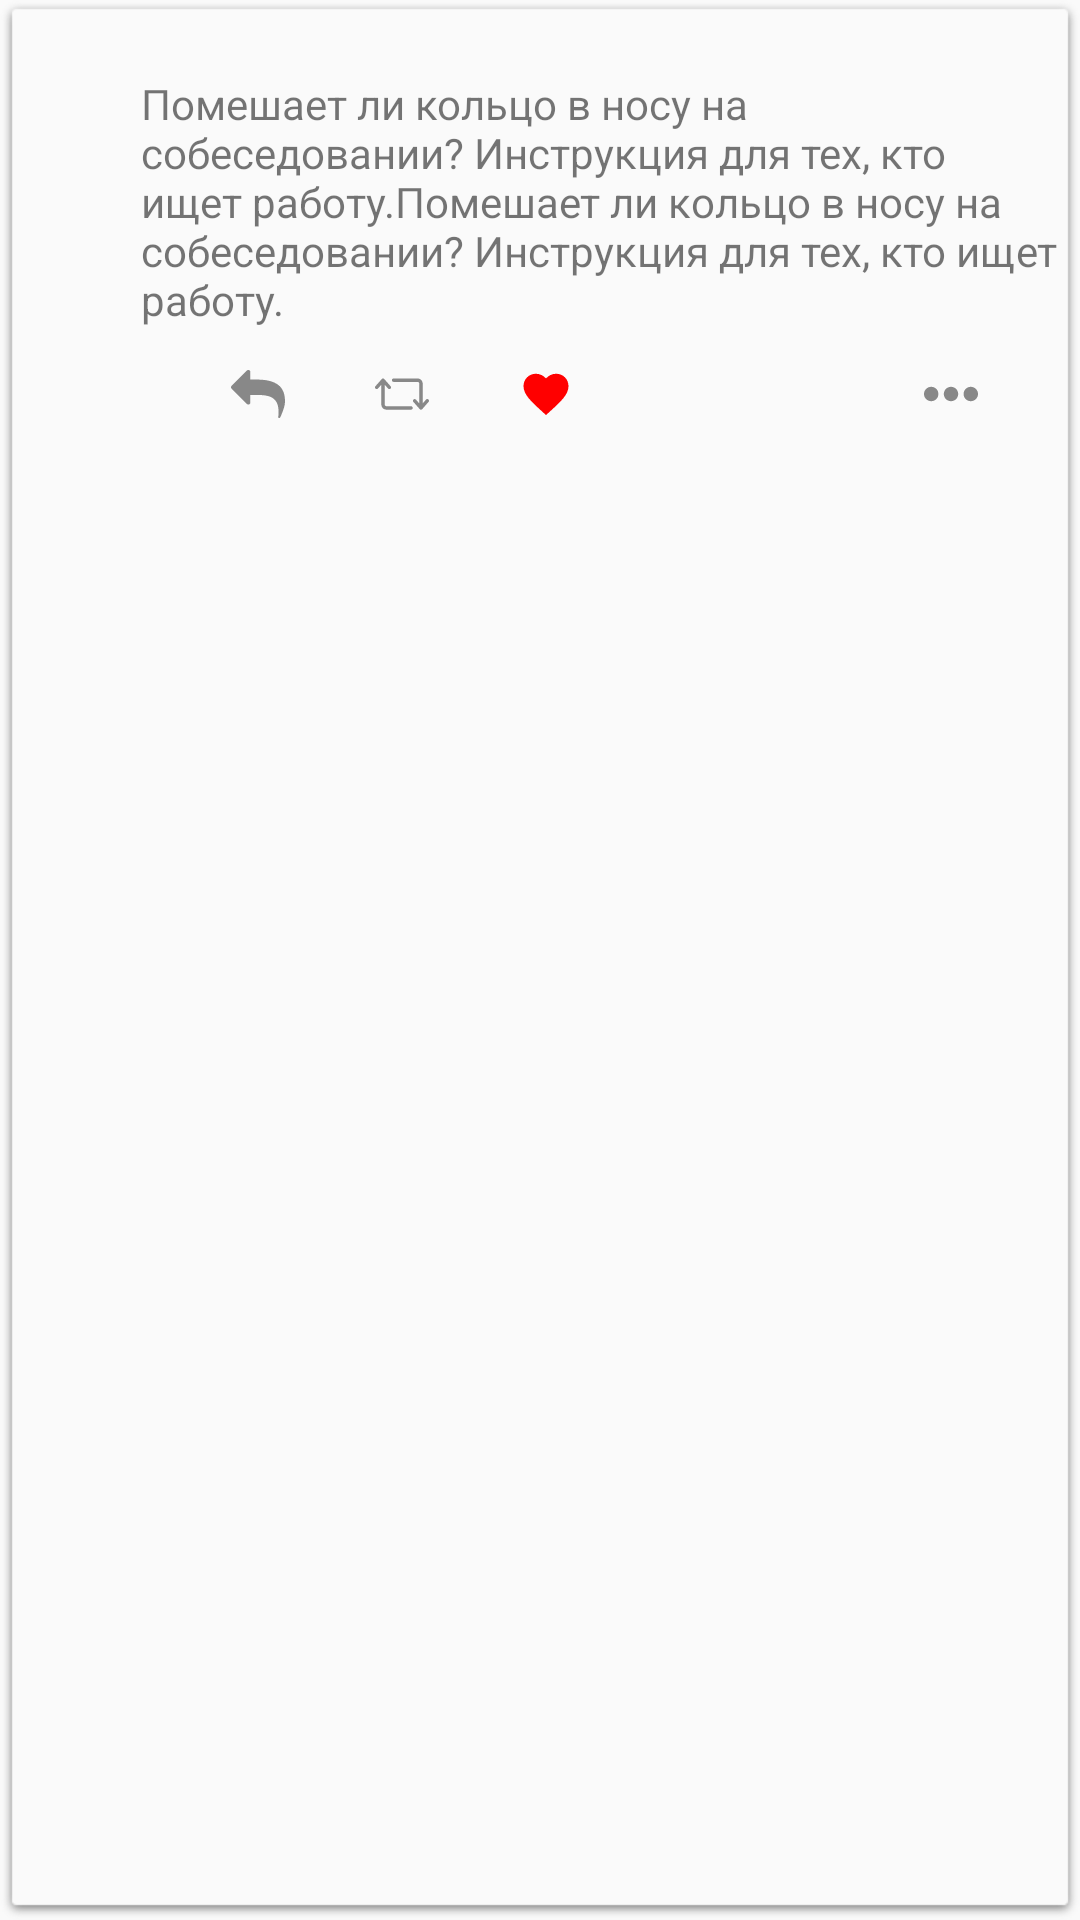

Locate icon controls on the screen. Image size 1080x1920, boxes as (x1, y1, x2, y2).
more: (924, 386, 978, 402)
reply: (231, 370, 285, 418)
